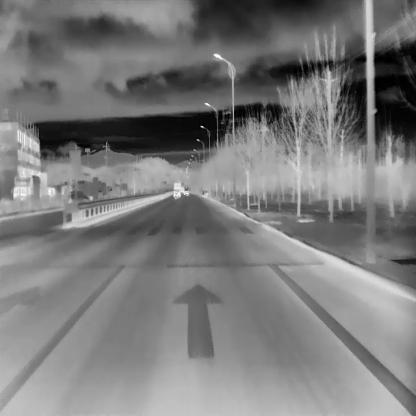car: (173, 188, 181, 198), (174, 181, 181, 191), (184, 188, 189, 195)
